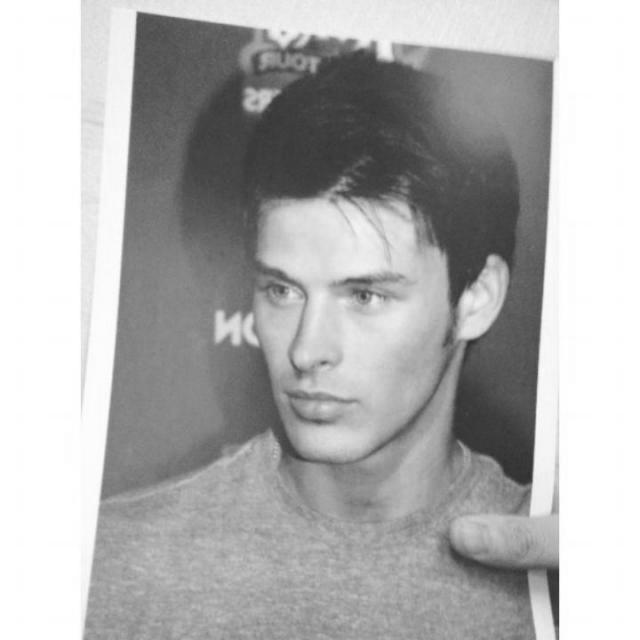fake: (91, 5, 558, 640)
